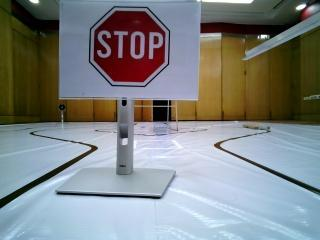stop: (65, 5, 196, 93)
